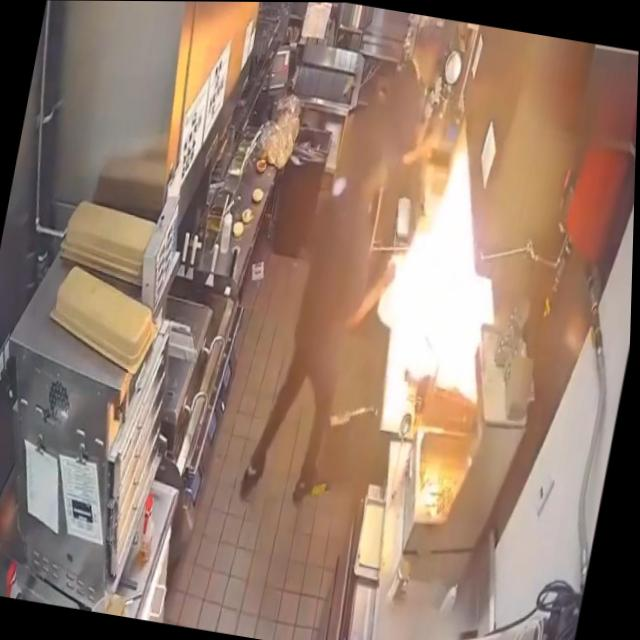fire: (356, 147, 531, 442)
